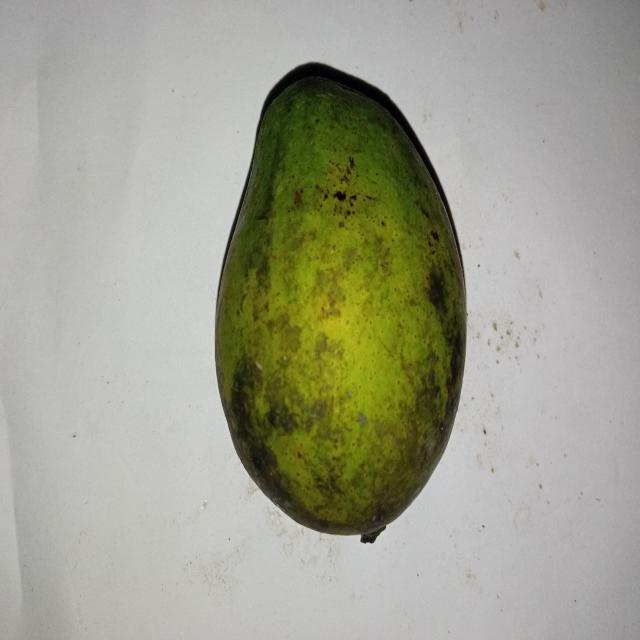rotten_mango: (216, 65, 464, 538)
